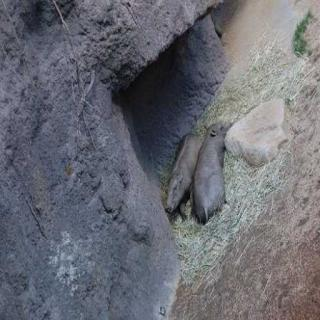Pig: (195, 120, 244, 238), (163, 126, 197, 220)
